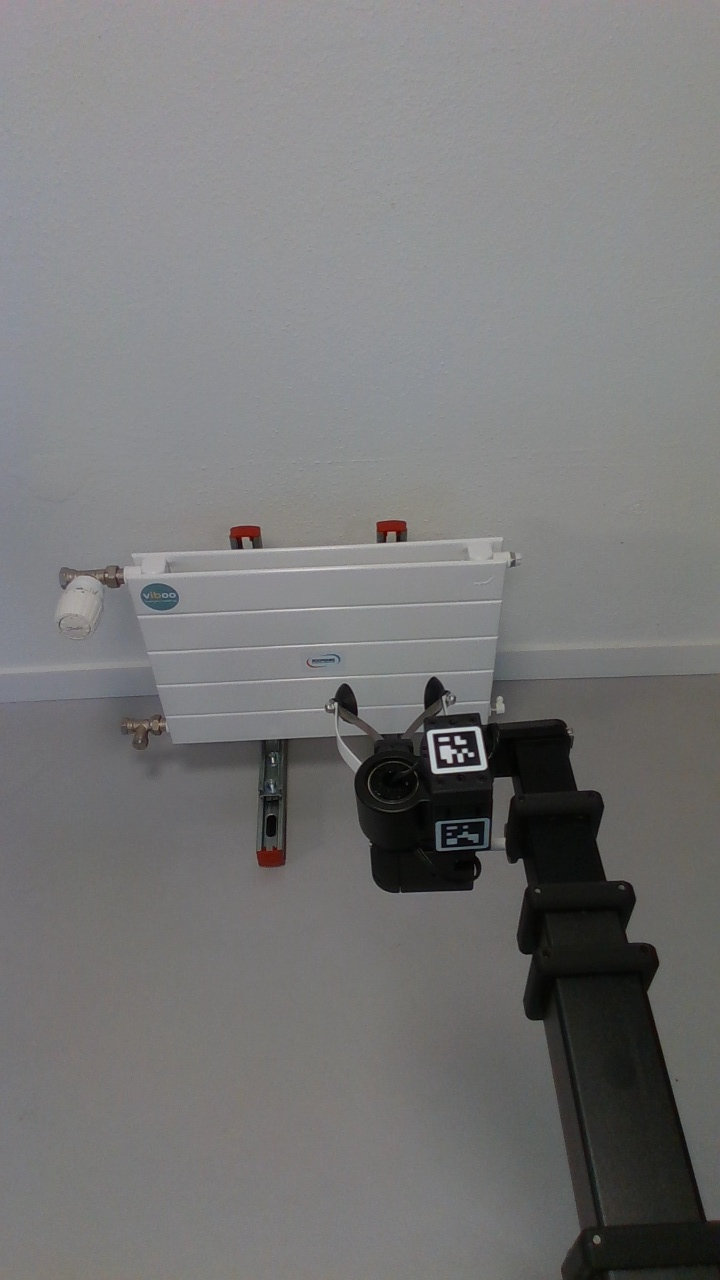Knob_Radiator: (43, 566, 118, 647)
Radiator: (118, 530, 520, 744)
